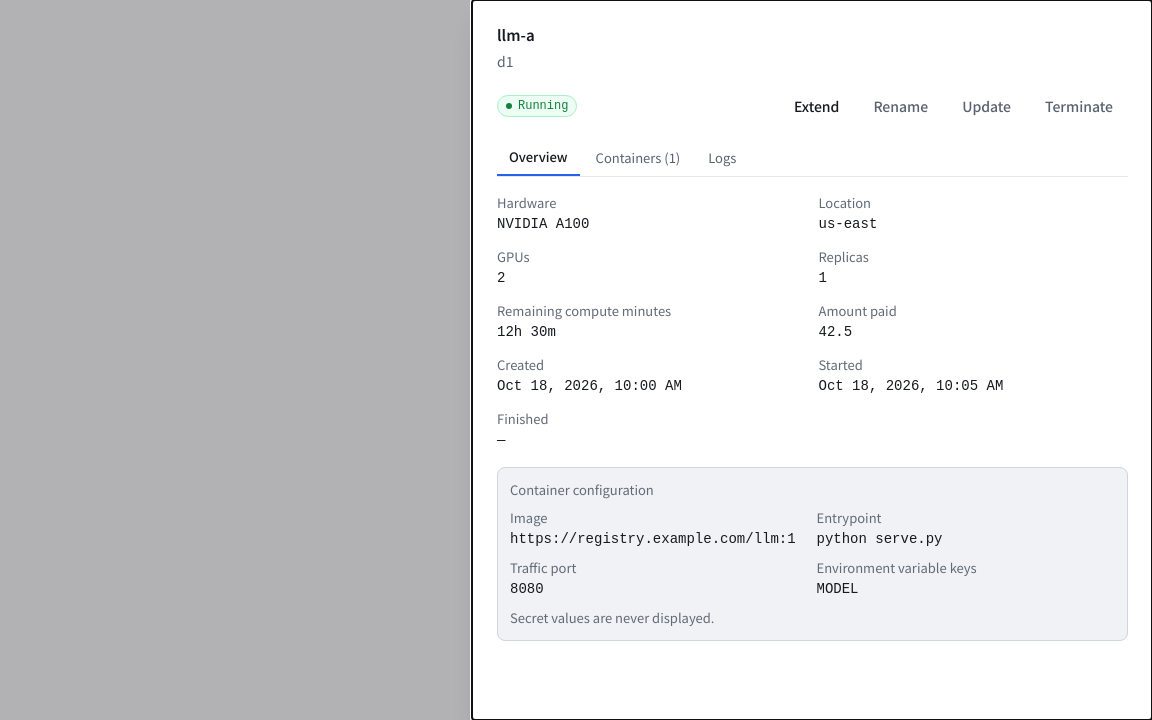
Test: deployment detail drawer (F-08-56) › loads logs with a page token and appends the next page
The image size is (1152, 720).
Click the tab "Logs": (722, 158) [696,140,748,176]
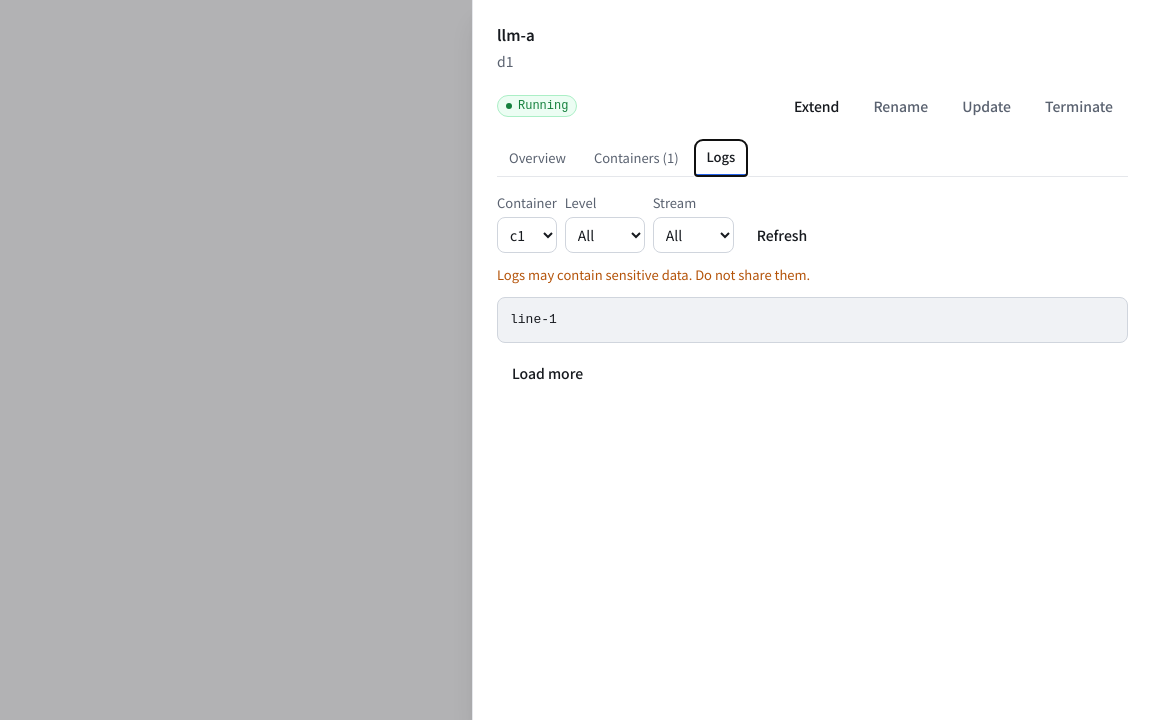
Now the element with test id "deployment-log" reads "line-1", box [510,312,557,327]
Now the text "Logs may contain sensitive data. Do not share them." is shown, box [497,265,810,284]
Click the button "Load more": (548, 373) [497,355,598,391]
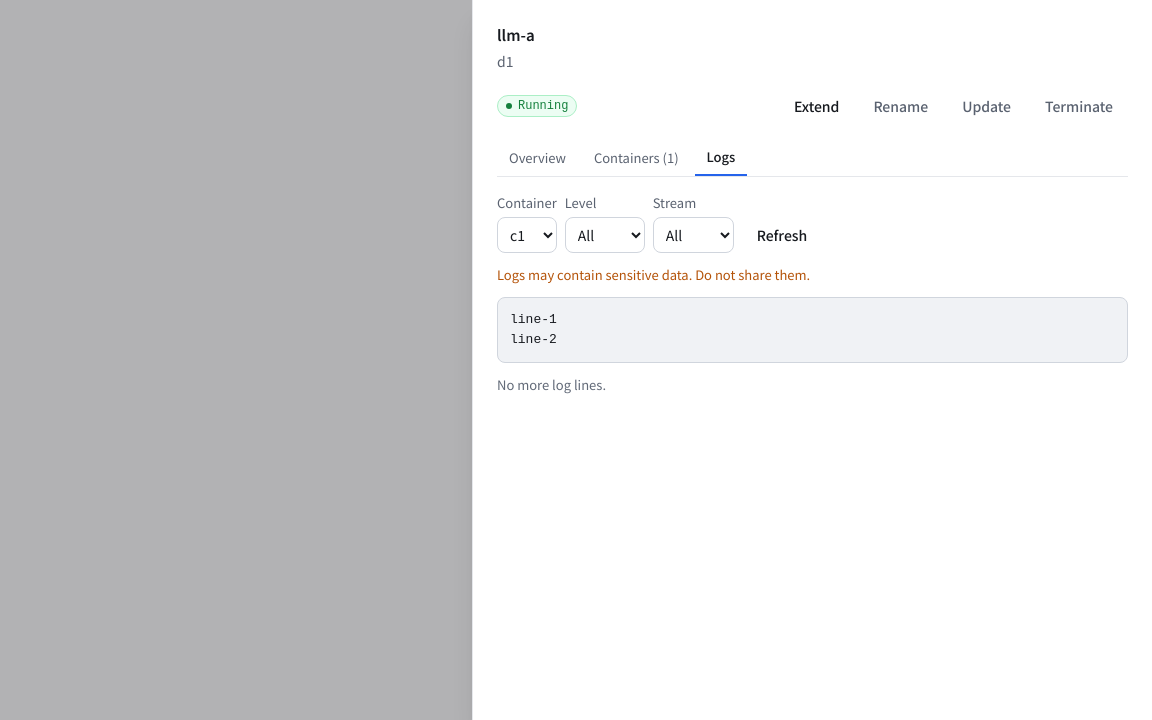
Now the element with test id "deployment-log" shows "line-1", box [510,312,557,327]
Now the element with test id "deployment-log" shows "line-2", box [510,332,557,347]
Now the text "No more log lines." is shown, box [497,375,606,394]
